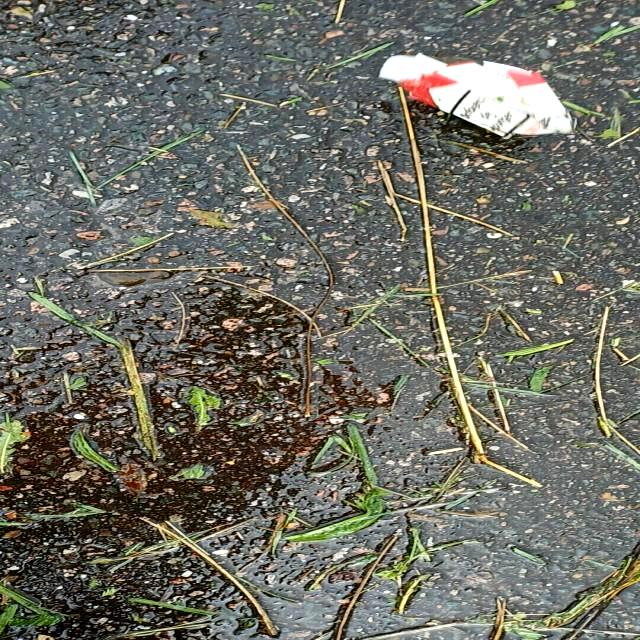Paper: (372, 50, 576, 140)
